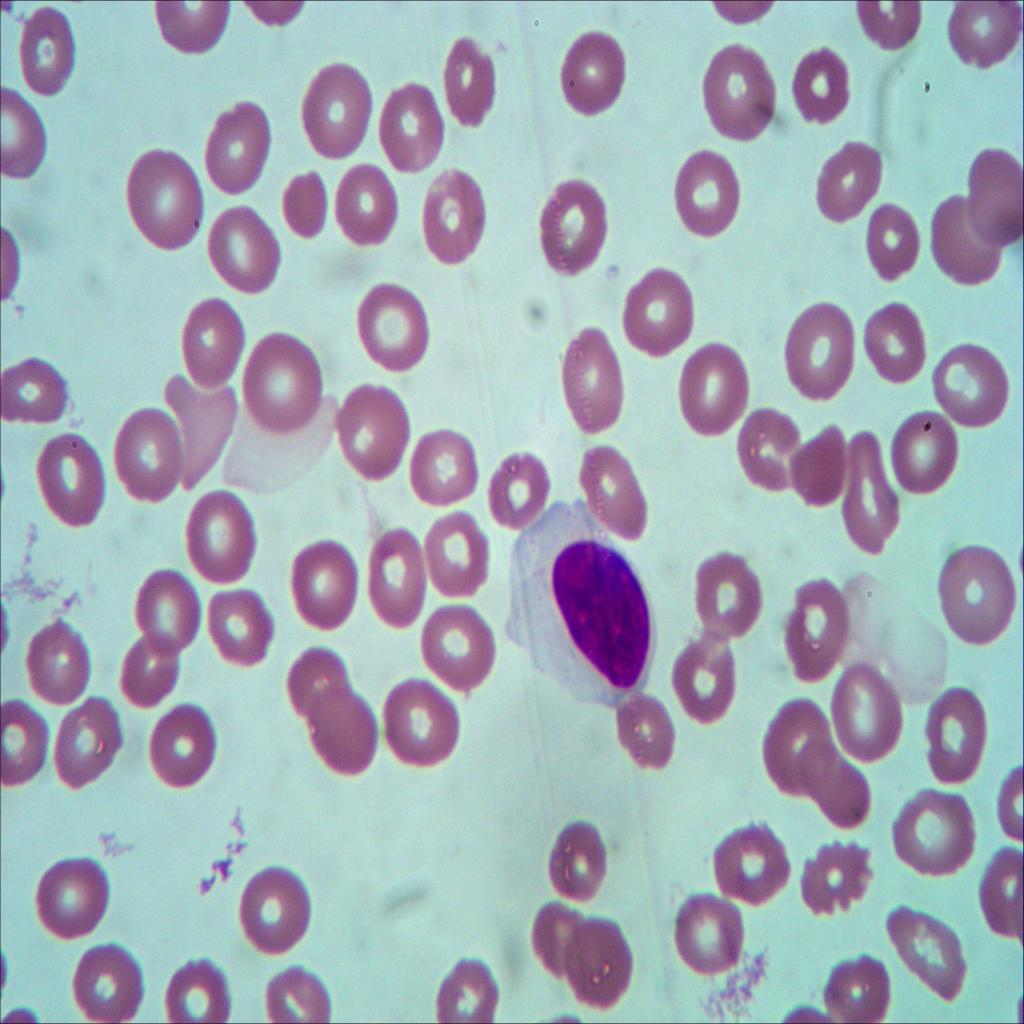Eritrosit: (831, 418, 906, 570), (552, 310, 628, 442), (120, 148, 208, 258), (882, 901, 973, 1005), (532, 170, 616, 282), (29, 420, 114, 530), (241, 333, 329, 439), (379, 670, 462, 780), (197, 196, 283, 302), (227, 860, 318, 960), (699, 36, 776, 150), (940, 538, 1024, 642), (887, 788, 984, 878), (352, 279, 432, 387), (197, 98, 275, 208), (779, 294, 857, 404), (931, 336, 1015, 436), (362, 520, 434, 634), (414, 164, 490, 271), (708, 810, 790, 909), (668, 138, 745, 243), (323, 156, 409, 249), (378, 73, 450, 182), (142, 698, 222, 796), (924, 196, 1004, 294), (203, 577, 282, 676), (51, 693, 129, 793), (725, 388, 800, 492), (168, 376, 238, 487), (812, 134, 894, 228), (828, 663, 904, 763), (13, 3, 83, 111), (332, 384, 408, 482), (287, 536, 366, 630), (112, 401, 182, 506), (557, 28, 630, 128), (922, 670, 986, 784), (177, 285, 246, 390), (70, 936, 152, 1024), (572, 442, 654, 530), (682, 346, 756, 442), (134, 563, 208, 658), (426, 606, 502, 698), (420, 509, 494, 603), (960, 141, 1024, 249), (675, 888, 744, 988), (673, 626, 739, 730), (860, 200, 934, 292), (760, 690, 828, 790), (302, 62, 373, 157), (856, 294, 927, 388), (694, 548, 762, 646), (564, 914, 634, 1008), (432, 34, 502, 128), (26, 609, 97, 701), (186, 494, 258, 584), (308, 687, 382, 774), (806, 740, 873, 836), (31, 861, 115, 937), (806, 836, 875, 928), (623, 272, 698, 356), (790, 578, 848, 686), (890, 408, 964, 492), (546, 812, 608, 910), (154, 950, 236, 1024), (782, 419, 849, 509), (792, 30, 854, 127), (817, 945, 893, 1024), (408, 430, 480, 512), (480, 442, 545, 532), (614, 693, 680, 780), (427, 946, 500, 1024), (0, 355, 71, 435), (116, 626, 184, 709), (254, 962, 341, 1024), (283, 636, 343, 725), (946, 0, 1018, 70), (0, 89, 52, 184), (0, 705, 48, 797), (529, 896, 586, 972), (278, 165, 328, 239)
Limfosit: (505, 498, 660, 712)
